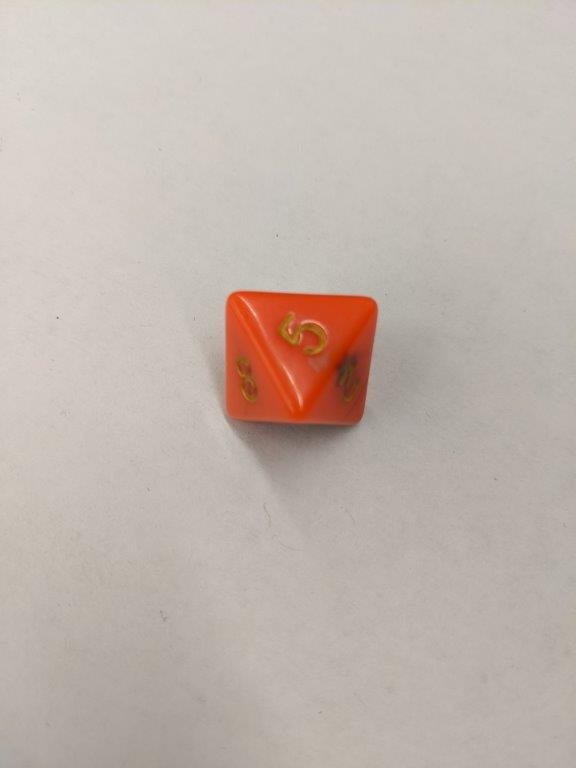d8-5: (224, 291, 378, 431)
